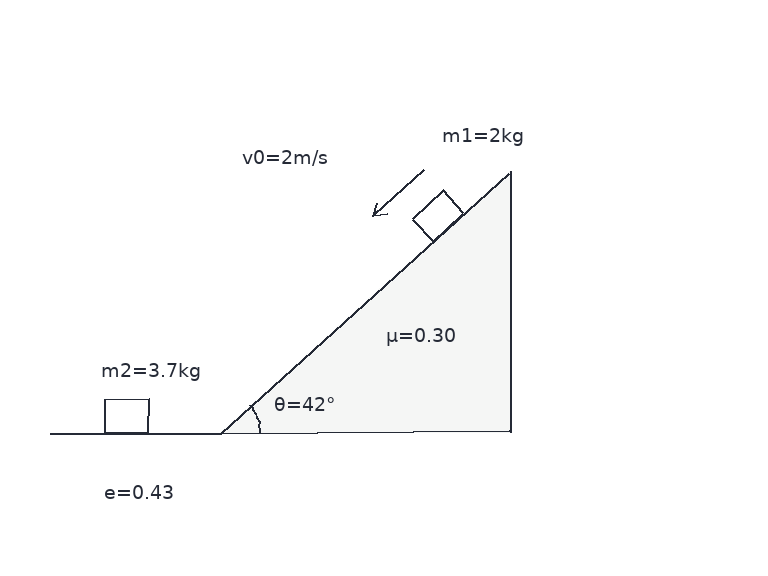block: (410, 188, 465, 243), (102, 398, 150, 434)
ramp: (218, 170, 511, 434)
